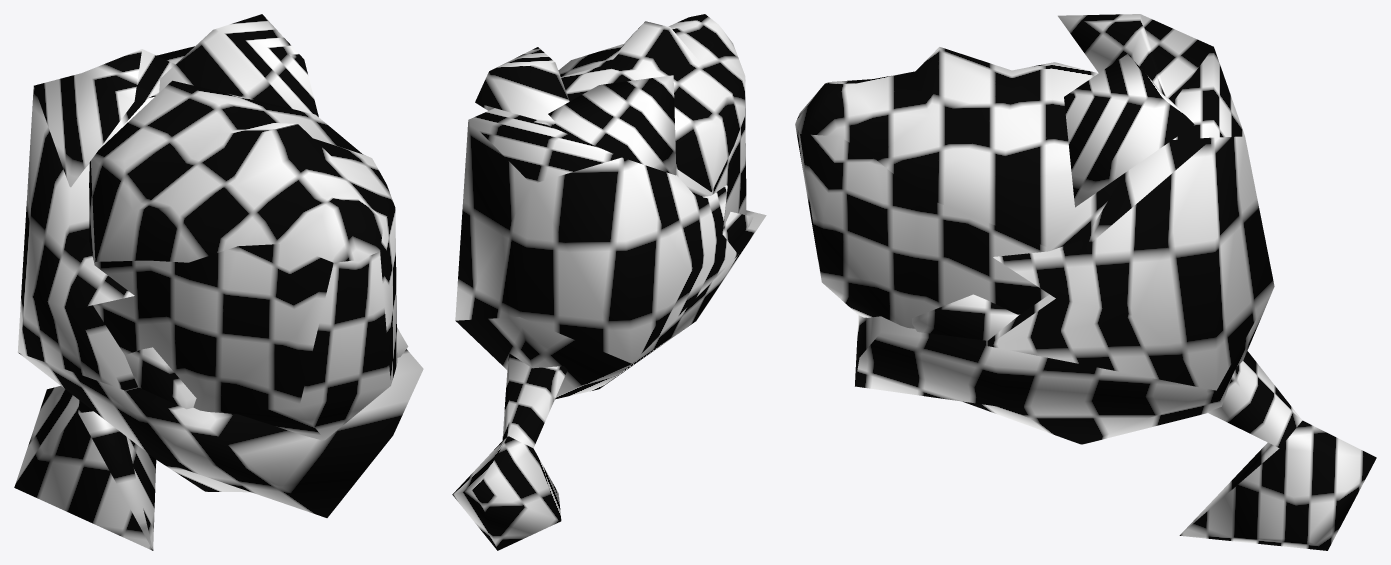
The model's file is infaunhufeth4.dae.
The picture shows the model from 3 angles, left to right: view 1: azimuth 30°, elevation 25°; view 2: azimuth 150°, elevation 25°; view 3: azimuth 270°, elevation 25°; orthographic projection. The views are drawn at different scales.
Parts seen in each view (by area): view 1: face; view 2: face; view 3: face.
Boxes of the visible parts, bbox=[...] form: face: bbox=[14, 14, 423, 550]; face: bbox=[452, 14, 766, 550]; face: bbox=[795, 14, 1376, 550].
Size of the model in its own units: 0.9201 by 1.7 by 1.65.
Materials: 1 (1 with a texture image).
